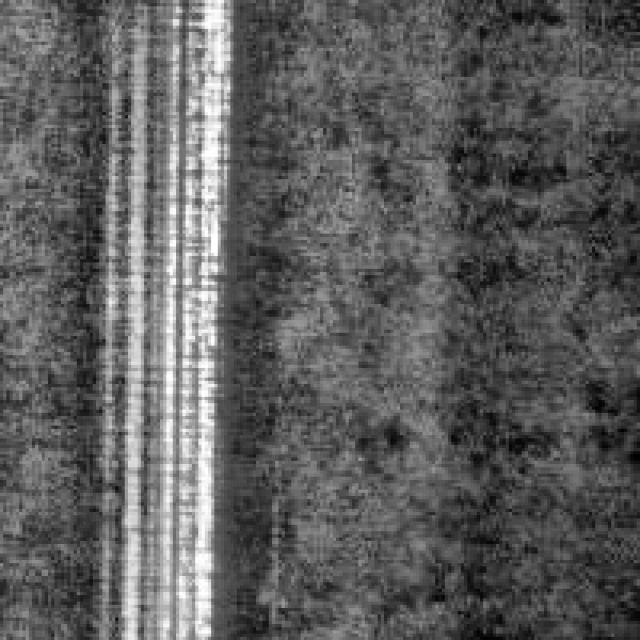Inclusion: (99, 0, 240, 634)
